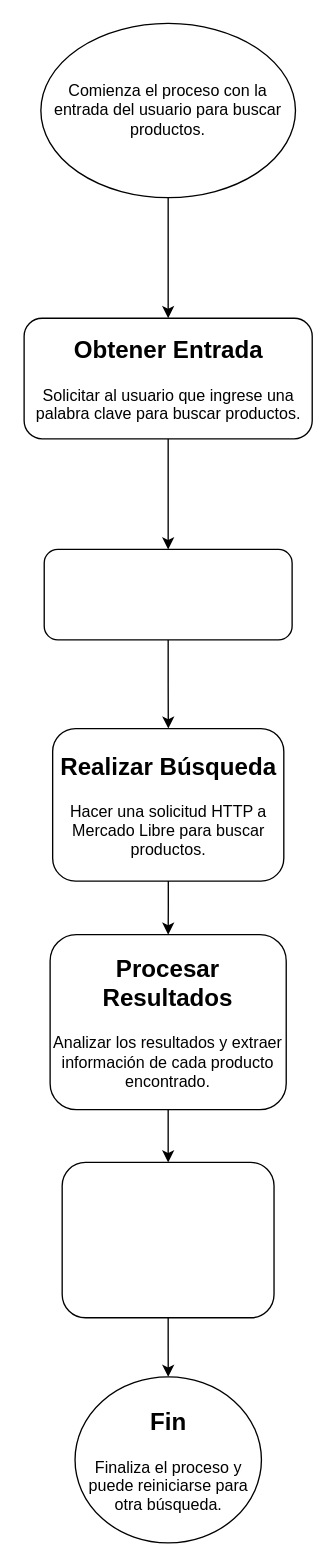
Some shapes in this 335 by 1566 pixel diagram are drawn without their labels. The shapes that lost their labels are listed below. From the top down, each one's centre as x and y in pixels, then its label:
At [167,594]: "Validar Entrada Comprobar si la palabra clave es válida (no vacía).".
At [167,1239]: "Mostrar Productos Imprimir los productos encontrados y sus enlaces.".
